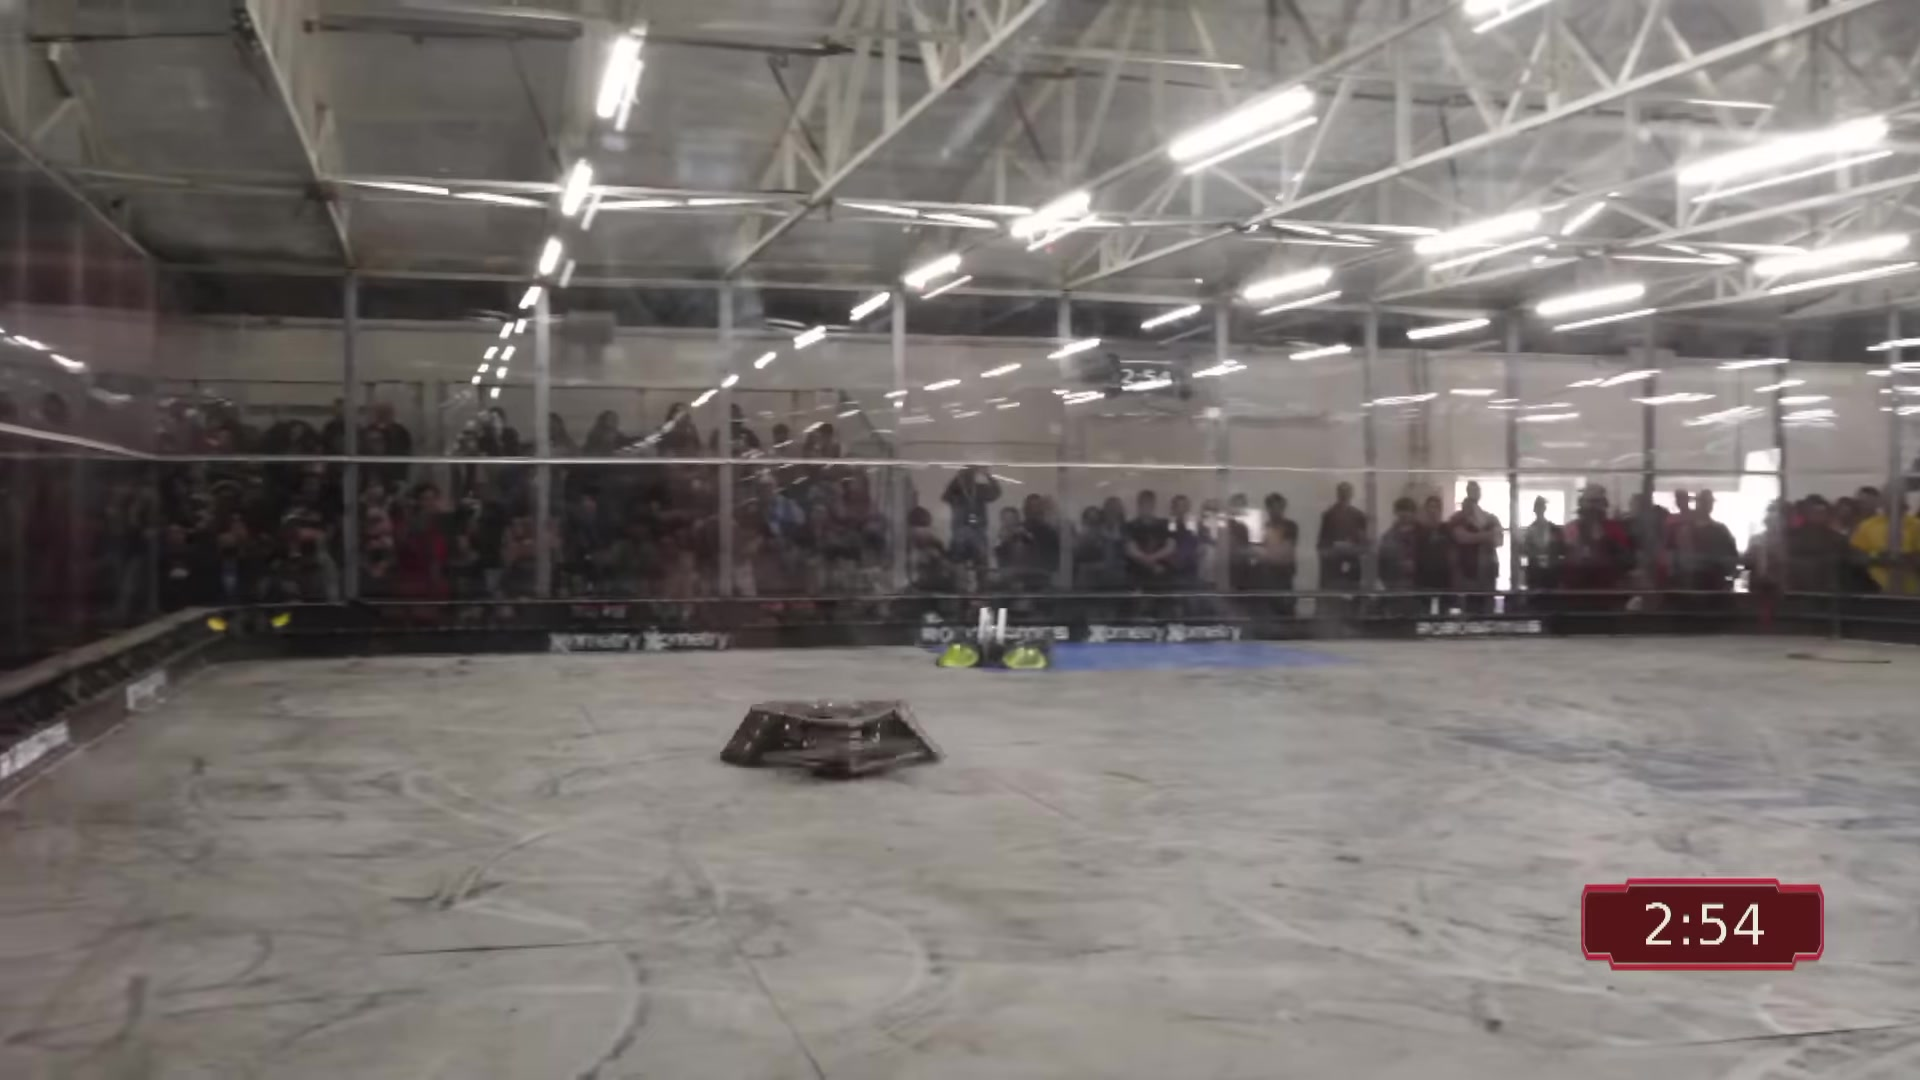combatbot: (721, 704, 952, 782), (940, 608, 1052, 667)
